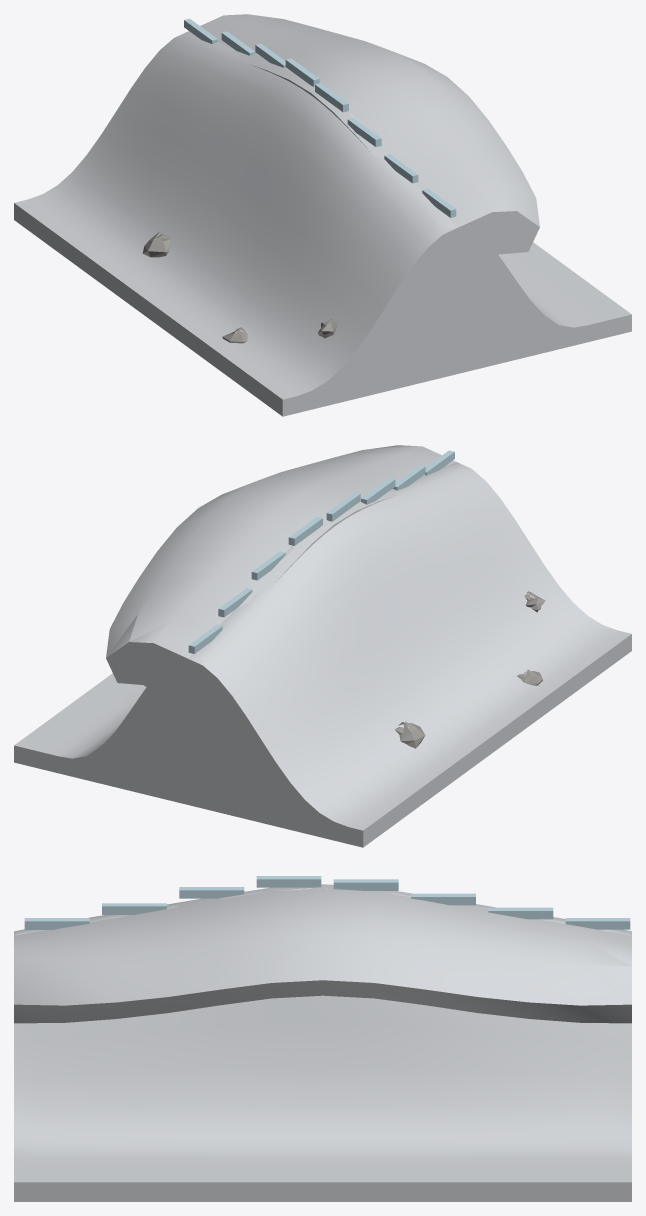
File: mountaineering-and-summit-expedition-corniced-ridge-mo-266180fe__18825.glb
The picture shows the model from 3 angles, top to bottom: view 1: azimuth 30°, elevation 25°; view 2: azimuth 150°, elevation 25°; view 3: azimuth 270°, elevation 25°; orthographic projection. The views are drawn at different scales.
Parts seen in each view (by area): view 1: corniced-ridge-module; view 2: corniced-ridge-module; view 3: corniced-ridge-module.
Boxes of the visible parts, x1=… form: corniced-ridge-module: x1=14, y1=14, x2=631, y2=416; corniced-ridge-module: x1=14, y1=445, x2=631, y2=847; corniced-ridge-module: x1=14, y1=876, x2=631, y2=1201.
Size of the model in its own units: 3 by 1.6 by 4.
